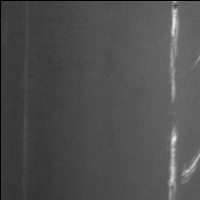scratches: (167, 3, 182, 101), (166, 124, 180, 200), (177, 149, 200, 187)
